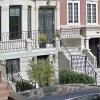stairs: (63, 50, 96, 75)
